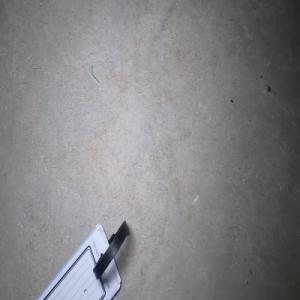LuggageTag: (35, 218, 130, 300)
